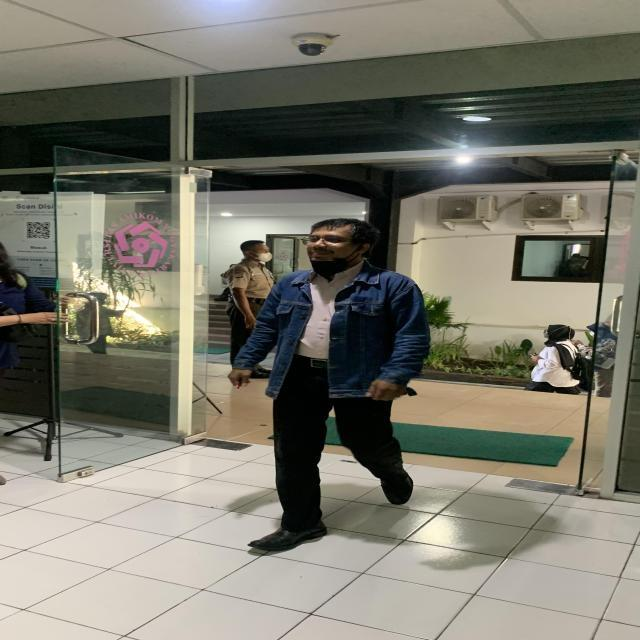hairnet: (296, 215, 382, 280)
